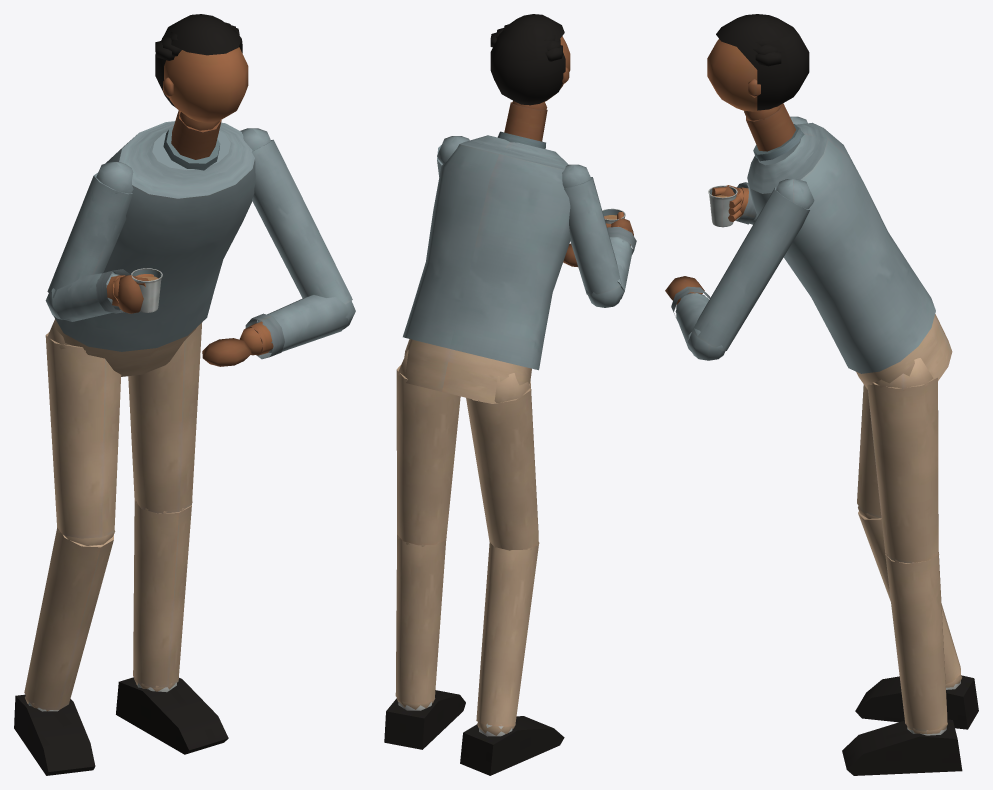
Rendered from figure-dawn.glb.
The picture shows the model from 3 angles, left to right: view 1: azimuth 30°, elevation 25°; view 2: azimuth 150°, elevation 25°; view 3: azimuth 270°, elevation 25°; orthographic projection. The views are drawn at different scales.
Parts seen in each view (by area): view 1: figure; view 2: figure; view 3: figure.
Part boxes in pixels (<box>): figure: <box>14,14,355,775</box>; figure: <box>384,14,636,775</box>; figure: <box>665,14,978,775</box>.
Size of the model in its own units: 0.5739 by 1.69 by 0.6615.
1 material, 1 textured.
